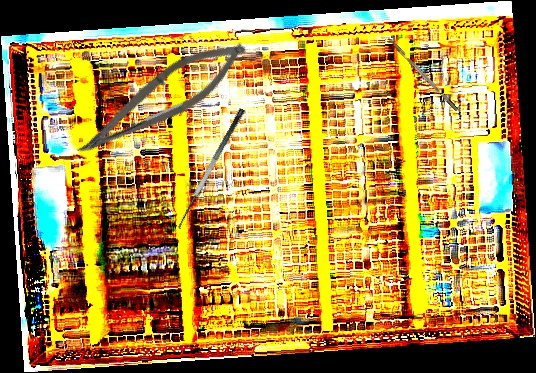Chopper: (380, 32, 459, 115)
Micro Scissor: (68, 22, 257, 179)
Spatula Surgical: (171, 107, 256, 234)
